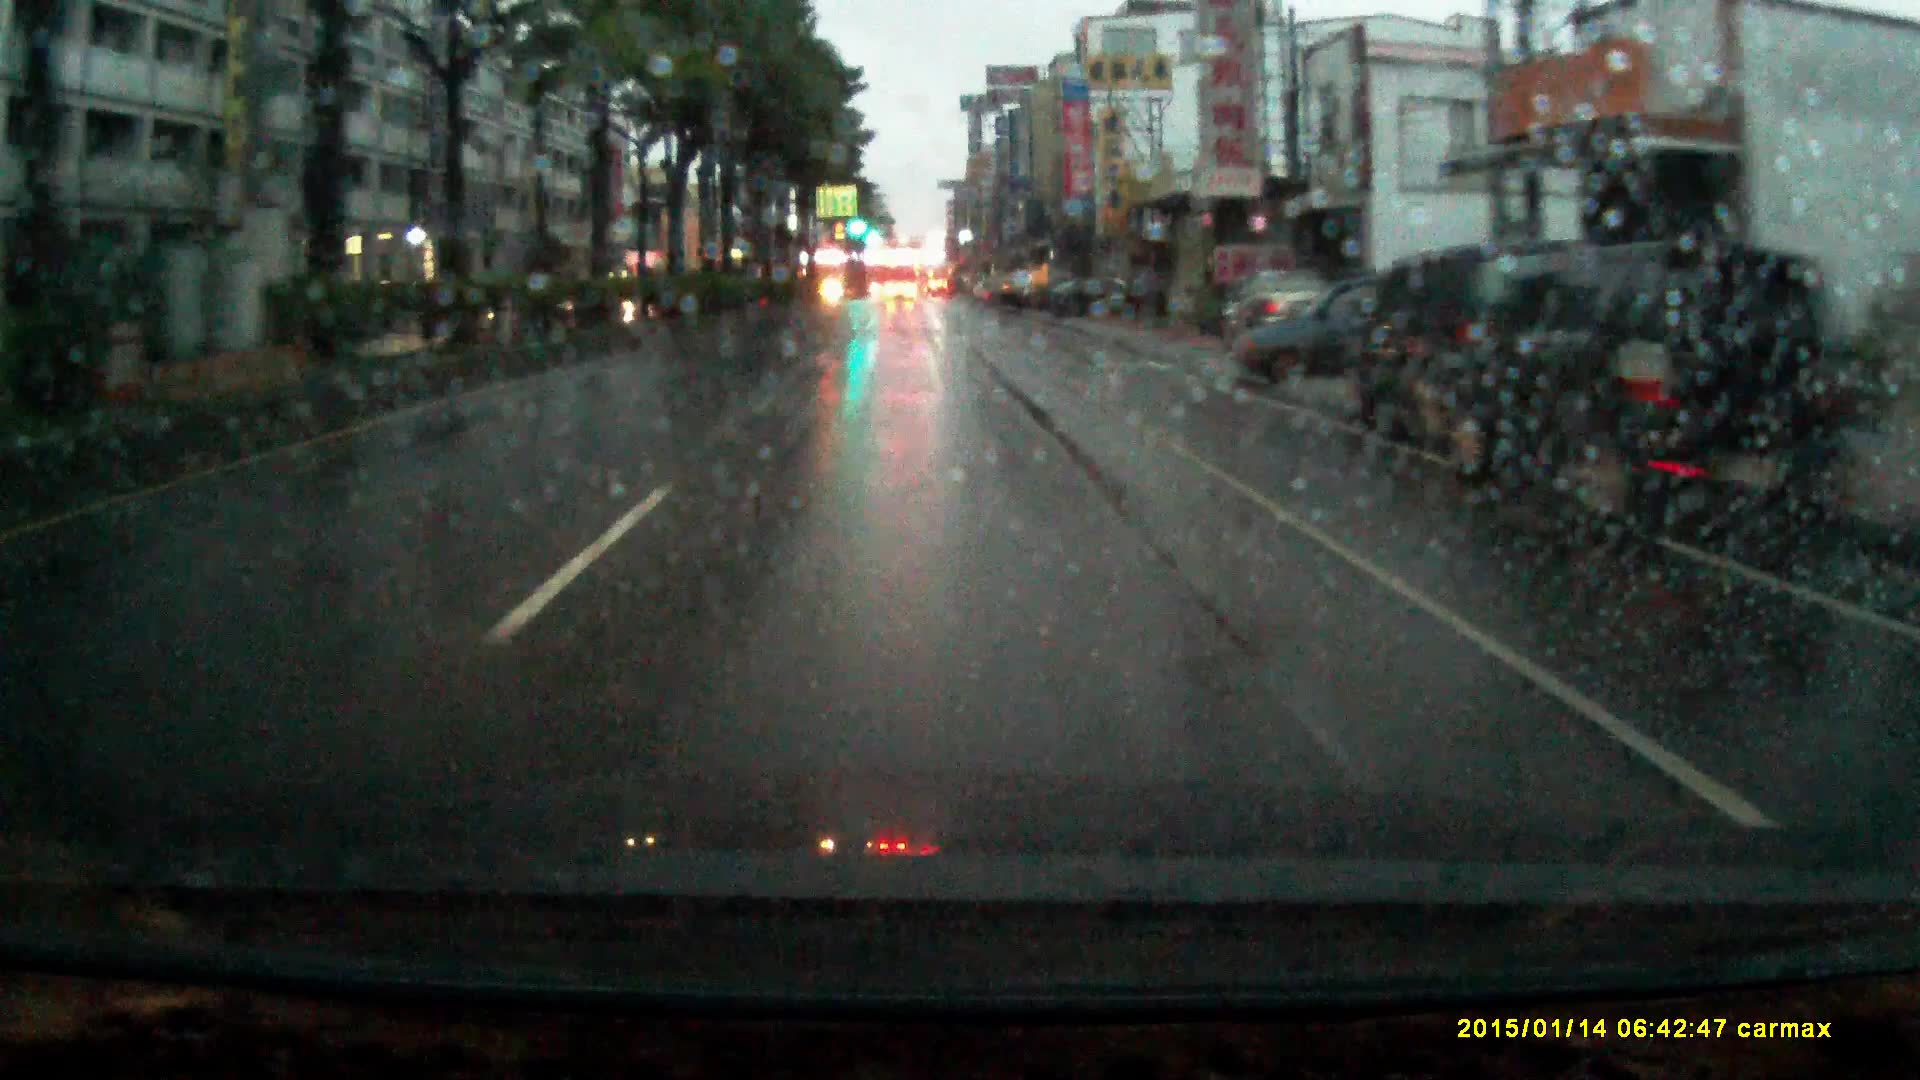vehicle: (1458, 245, 1840, 571), (1327, 252, 1643, 469), (1225, 287, 1422, 400), (1222, 276, 1337, 357), (984, 277, 1030, 314), (886, 285, 918, 310)
